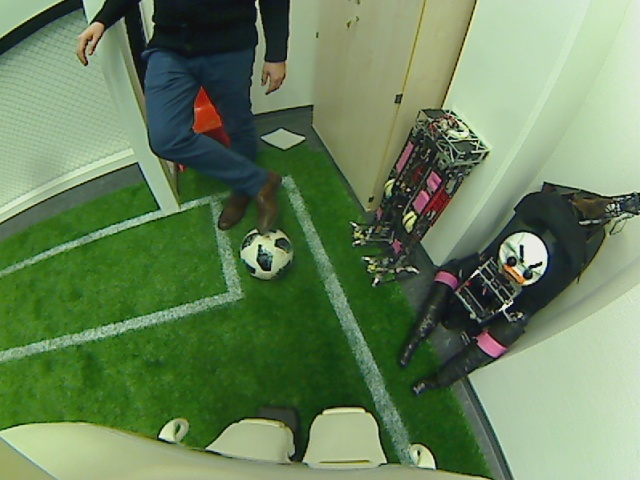ball: (239, 226, 293, 278)
